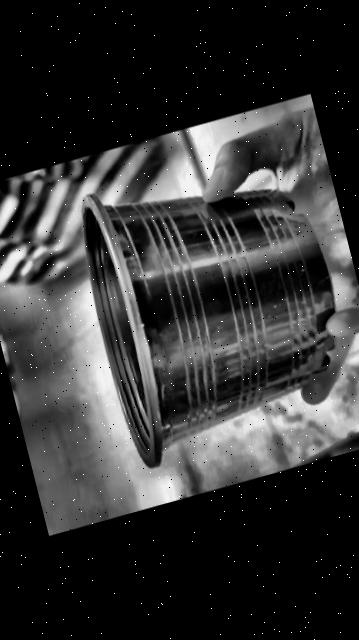pot: (80, 190, 333, 466)
